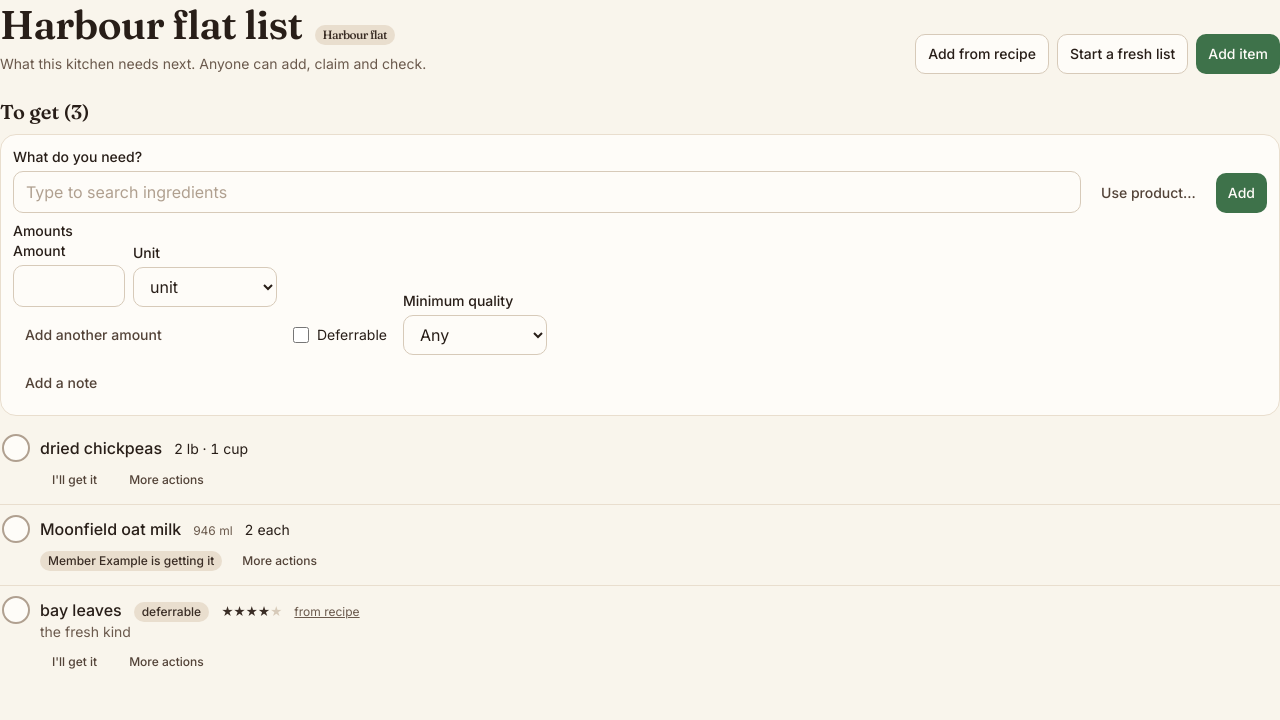
Test case: the list page: check, claim and stale edits (UI-8.6) › asks before closing an edit drawer with typed input
Click the button with aria-label "More actions for dried chickpeas".
click(166, 480)  # box [117,464,216,496]
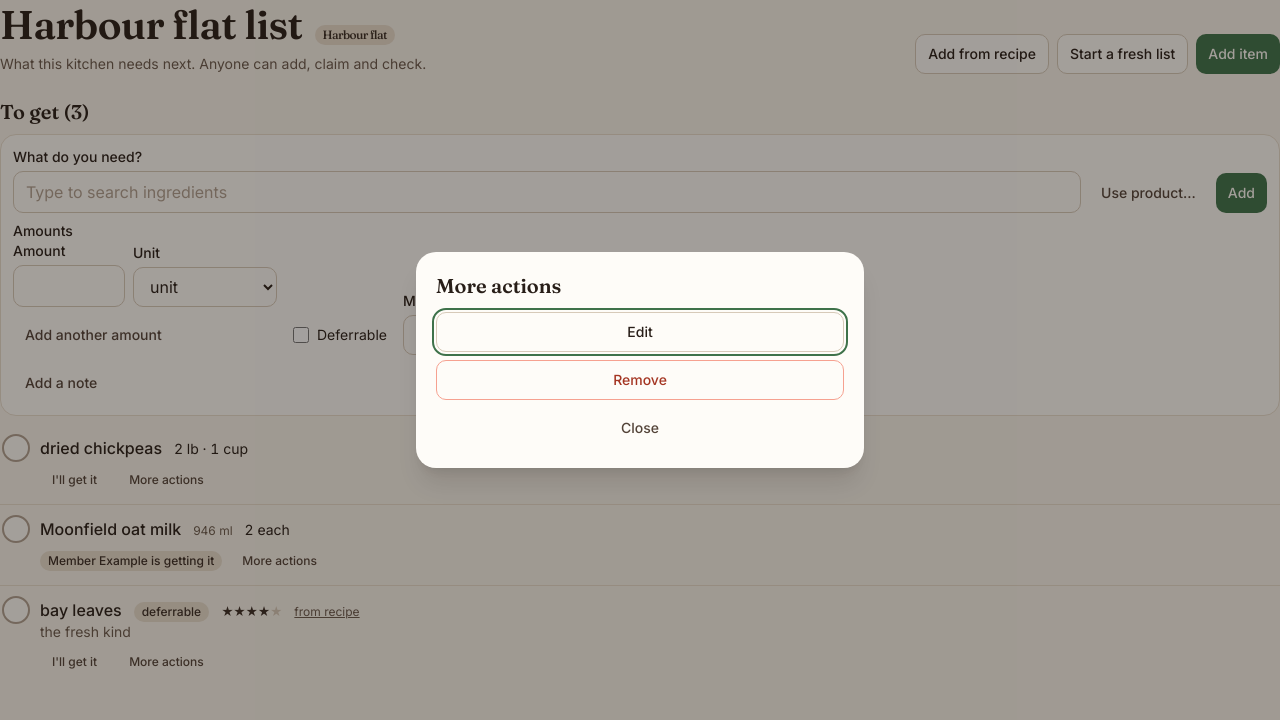
Click the button "Edit".
click(640, 332)  # box [436,312,844,352]
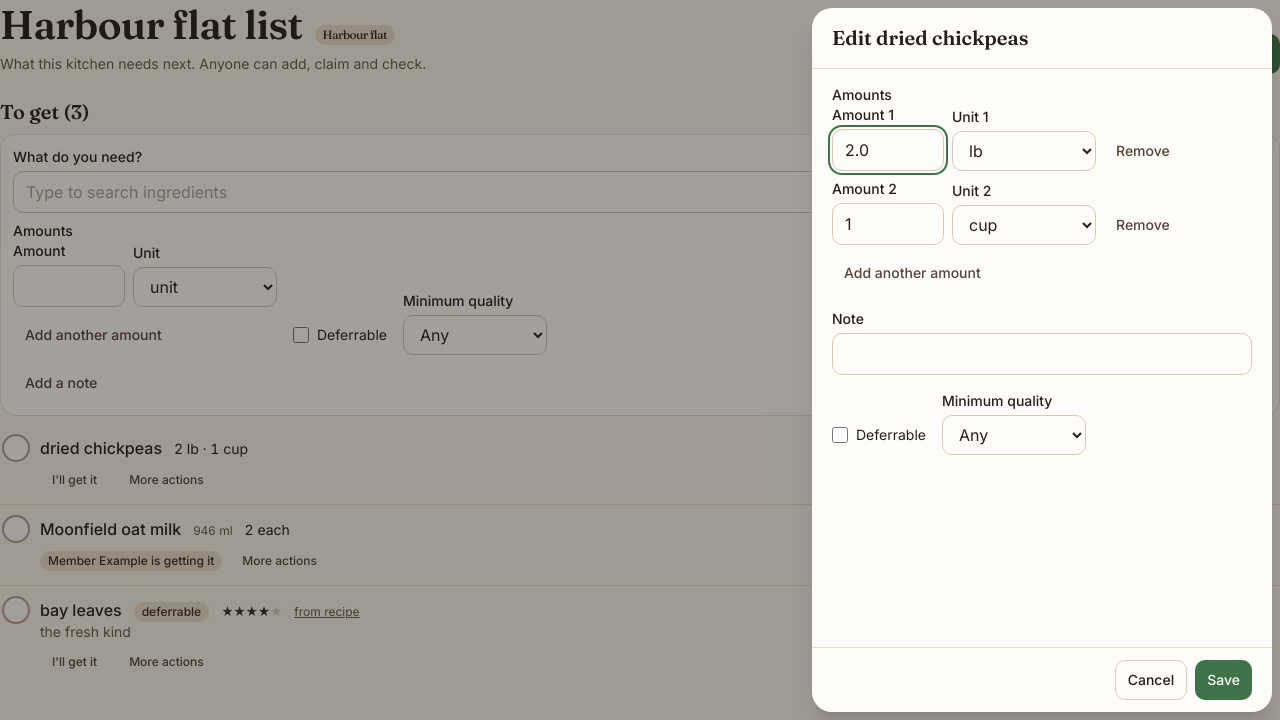
Type "x" into the field labelled "Note".
click(1042, 354); type("x")  # box [832,333,1252,375]
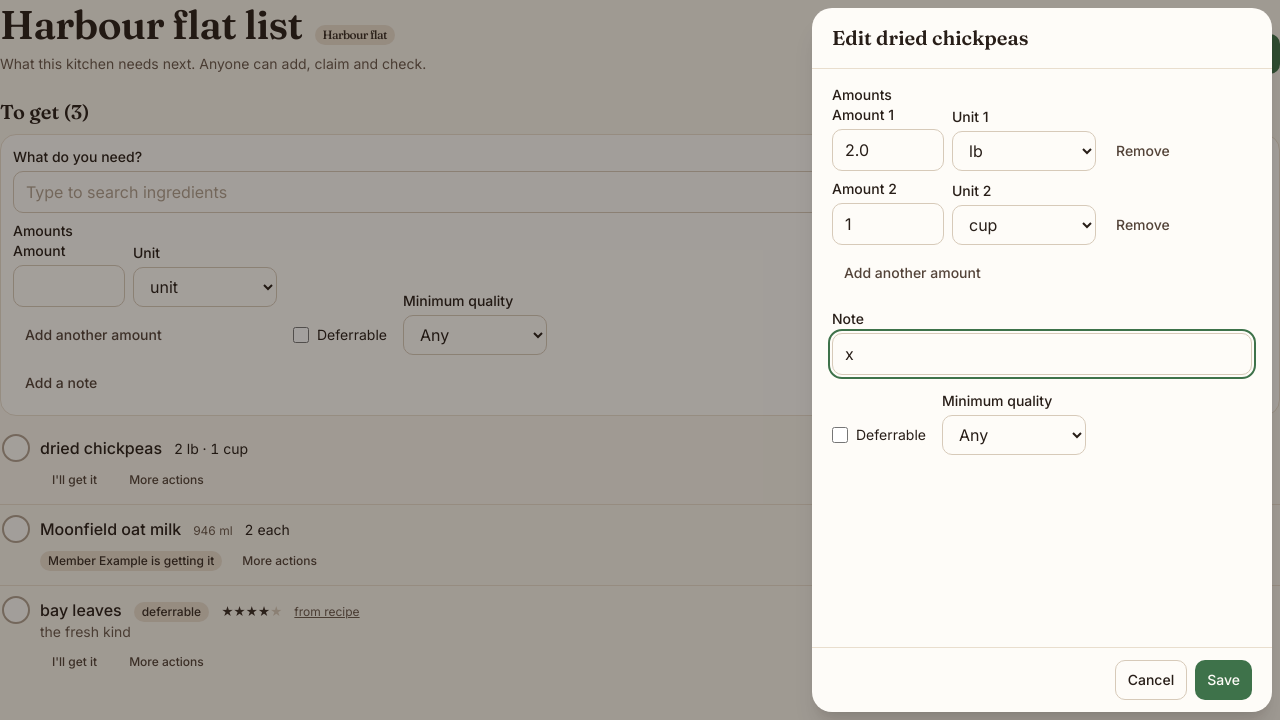
Click the button "Cancel".
click(1151, 680)  # box [1115,660,1187,700]
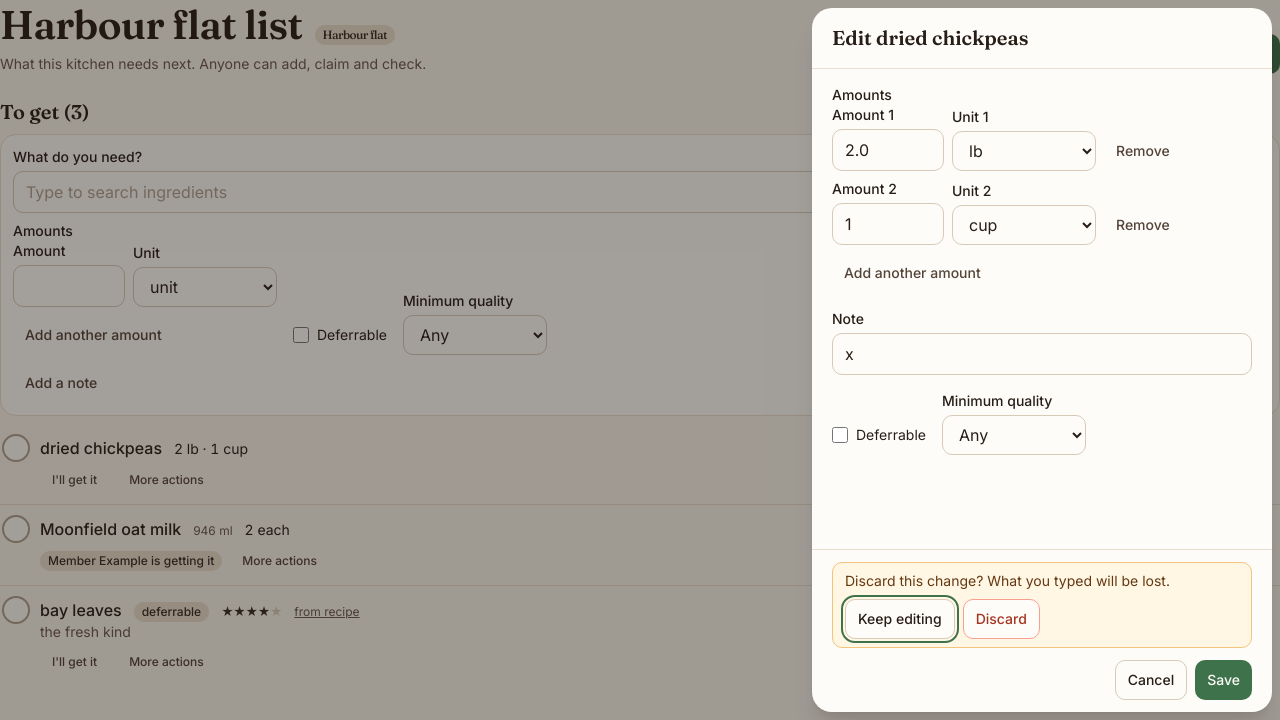
Now the message shows "Discard this change?", box [832,562,1252,648]
